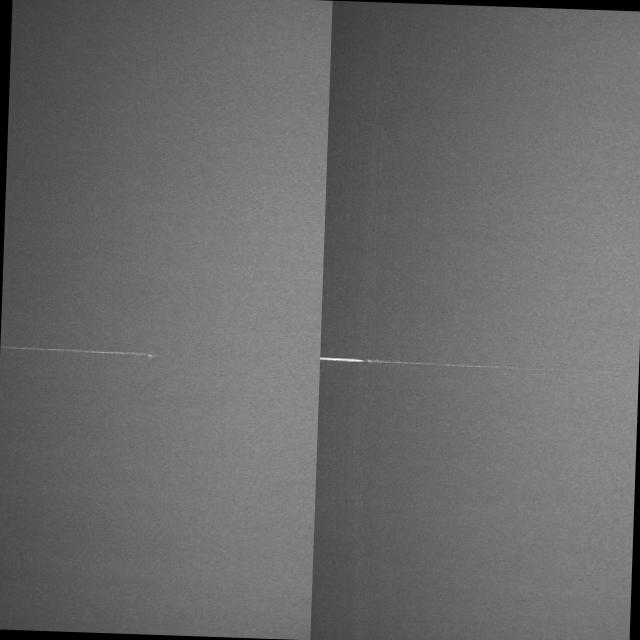Warp_Weft: (314, 356, 638, 374), (0, 343, 159, 359)
